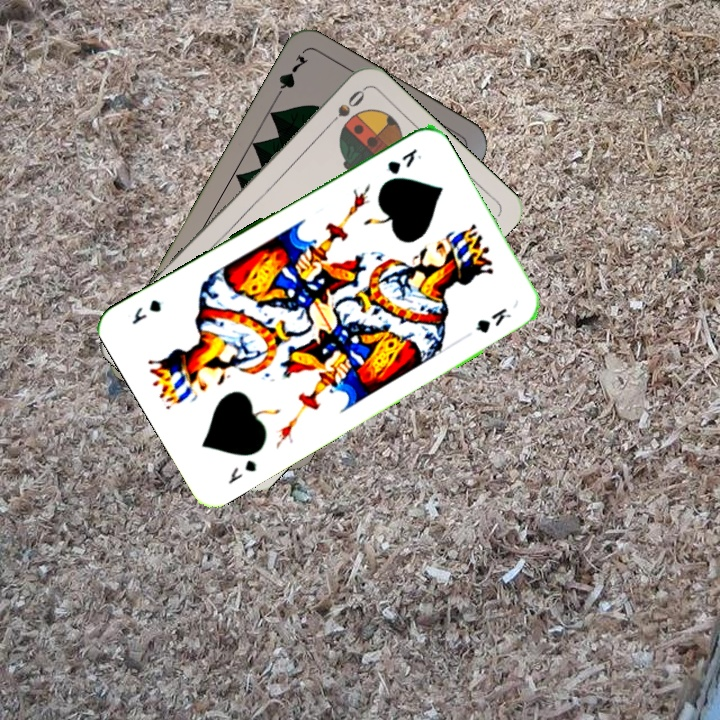G7: (270, 50, 311, 104)
GK: (383, 144, 424, 177), (224, 455, 259, 487)
SO: (321, 85, 368, 132)
